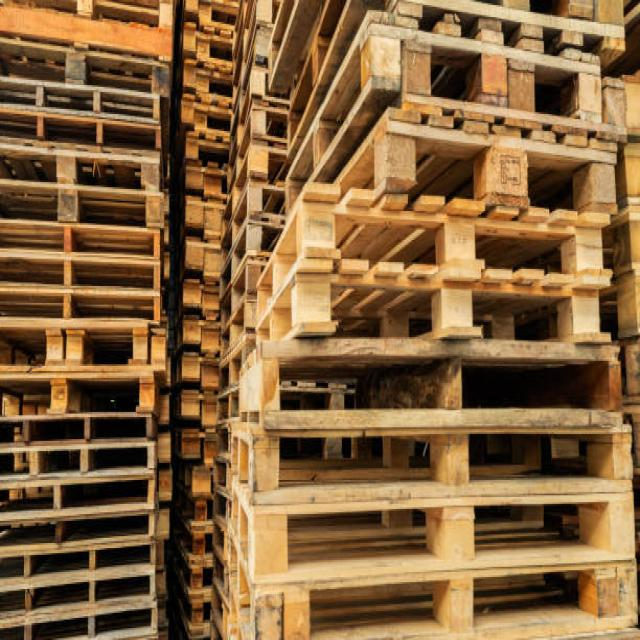Wooden-Pallets: (6, 3, 638, 636), (251, 328, 626, 435), (293, 184, 609, 293), (242, 418, 634, 492), (239, 492, 632, 562), (1, 26, 170, 101), (0, 236, 164, 303), (0, 349, 161, 414), (0, 168, 166, 229), (0, 440, 159, 480)
